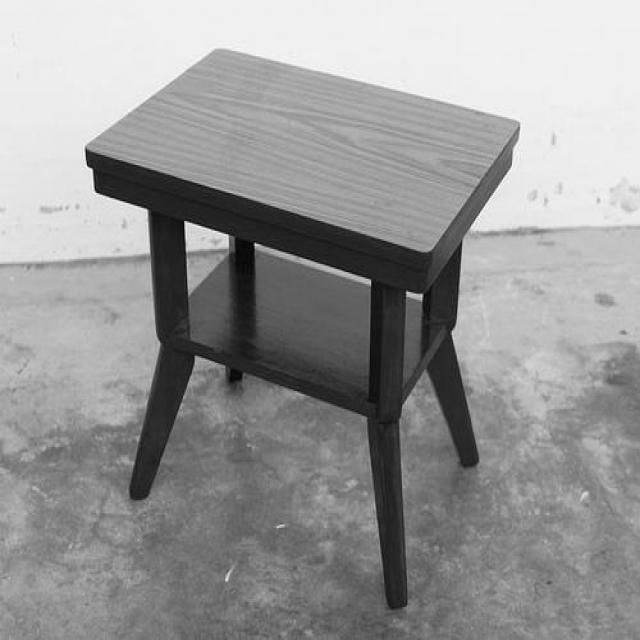table: (88, 48, 520, 610)
